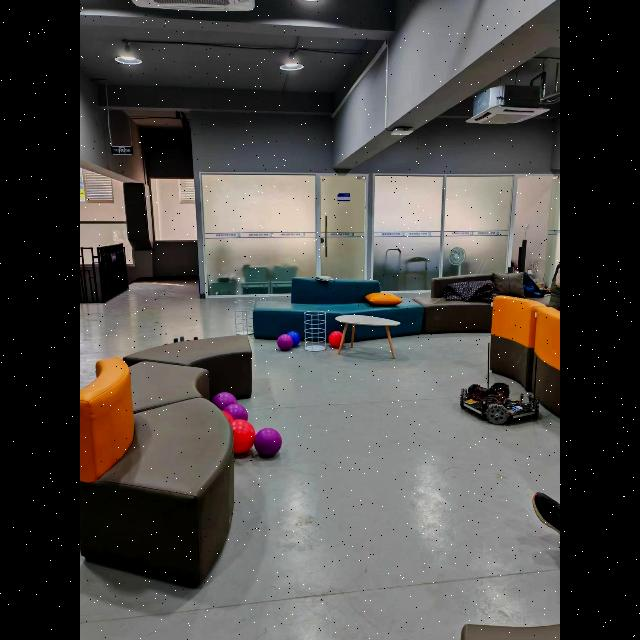B: (288, 331, 300, 347)
P: (254, 428, 283, 457), (212, 392, 237, 410), (224, 404, 248, 419), (276, 333, 294, 351)
R: (231, 419, 256, 454), (328, 331, 343, 348), (222, 410, 234, 422)
S: (304, 311, 326, 352), (235, 299, 255, 335)
